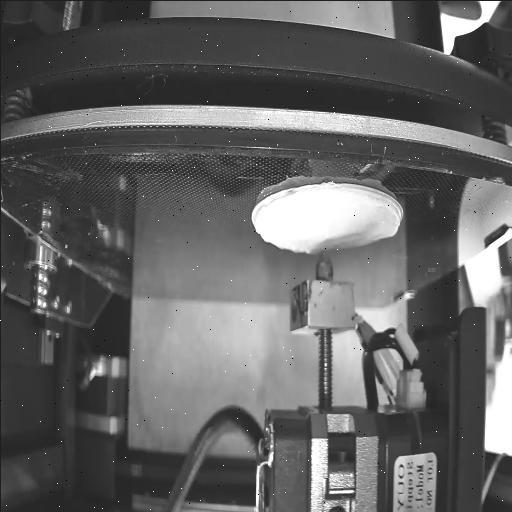over_extrusion: (254, 206, 316, 256), (374, 188, 400, 244)
